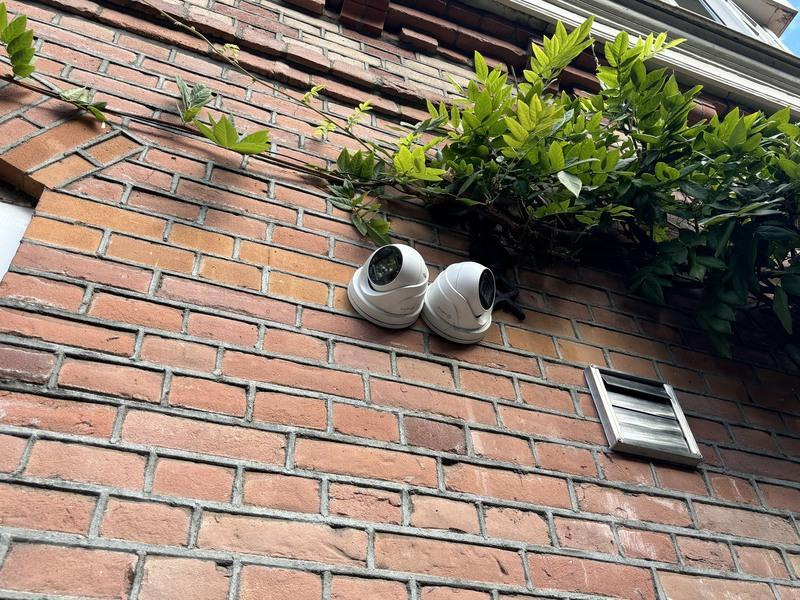turret: (340, 239, 427, 328), (431, 250, 503, 347)
